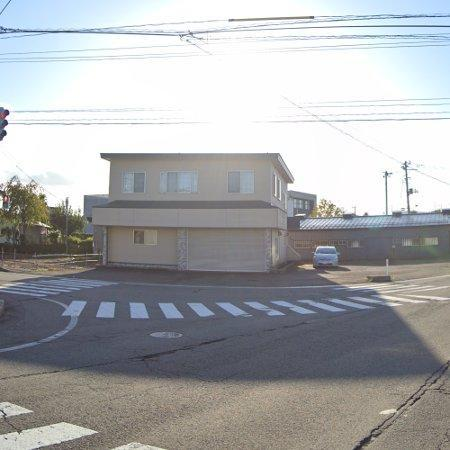crosswalk: (64, 295, 446, 319)
